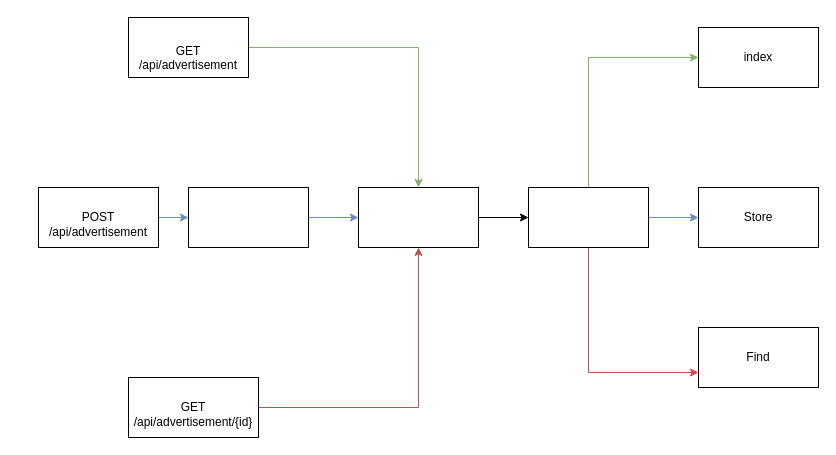
The diagram is 836 pixels wide and 455 high, and some of its shapes have lost their labels. Here are the shapes that lost their labels. From the top down, the box of each, then its label:
(188, 186, 308, 248): StoreAdvertisement Request
(358, 186, 478, 248): Advertisement Controller
(528, 186, 648, 248): Advertisement Service
